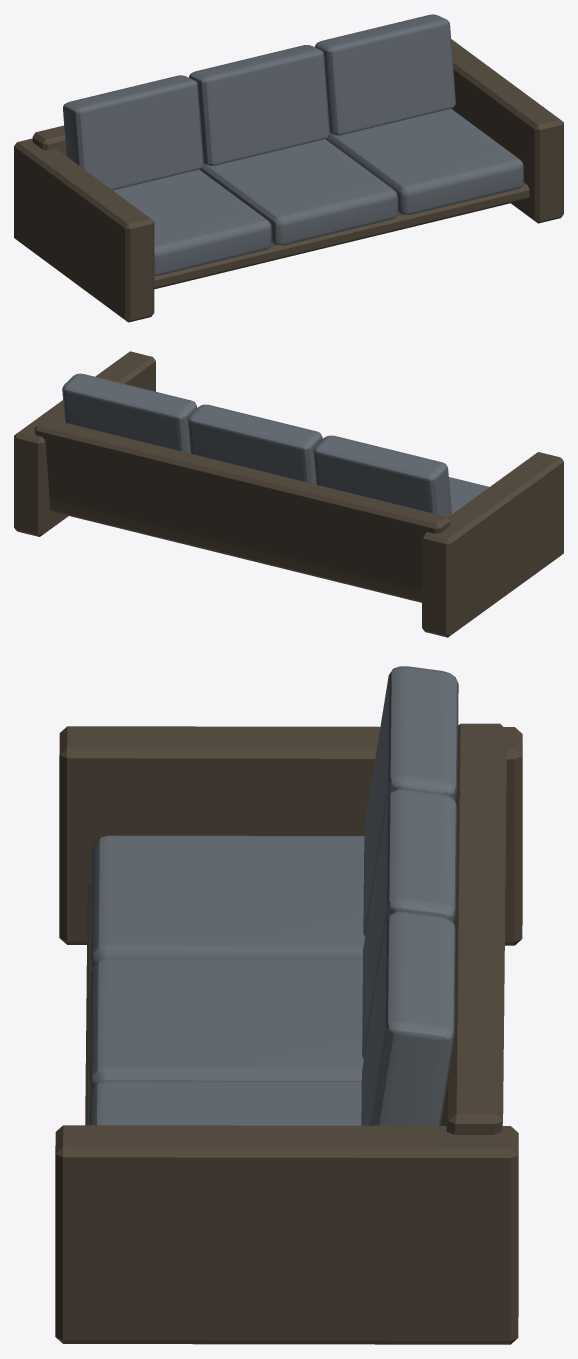
The model's file is WM_Couch.fbx.
3 renders of one model, top to bottom at view 1: azimuth 30°, elevation 25°; view 2: azimuth 150°, elevation 25°; view 3: azimuth 270°, elevation 25°, orthographic. The views are drawn at different scales.
Parts seen in each view (by area): view 1: polySurface27; view 2: polySurface27; view 3: polySurface27.
Part boxes in pixels (x1,y1,x2,y2): polySurface27: (14,14,563,322); polySurface27: (14,351,563,637); polySurface27: (55,666,522,1344).
Bounding box in the file's own units: 18.25 × 5.77 × 8.42.
